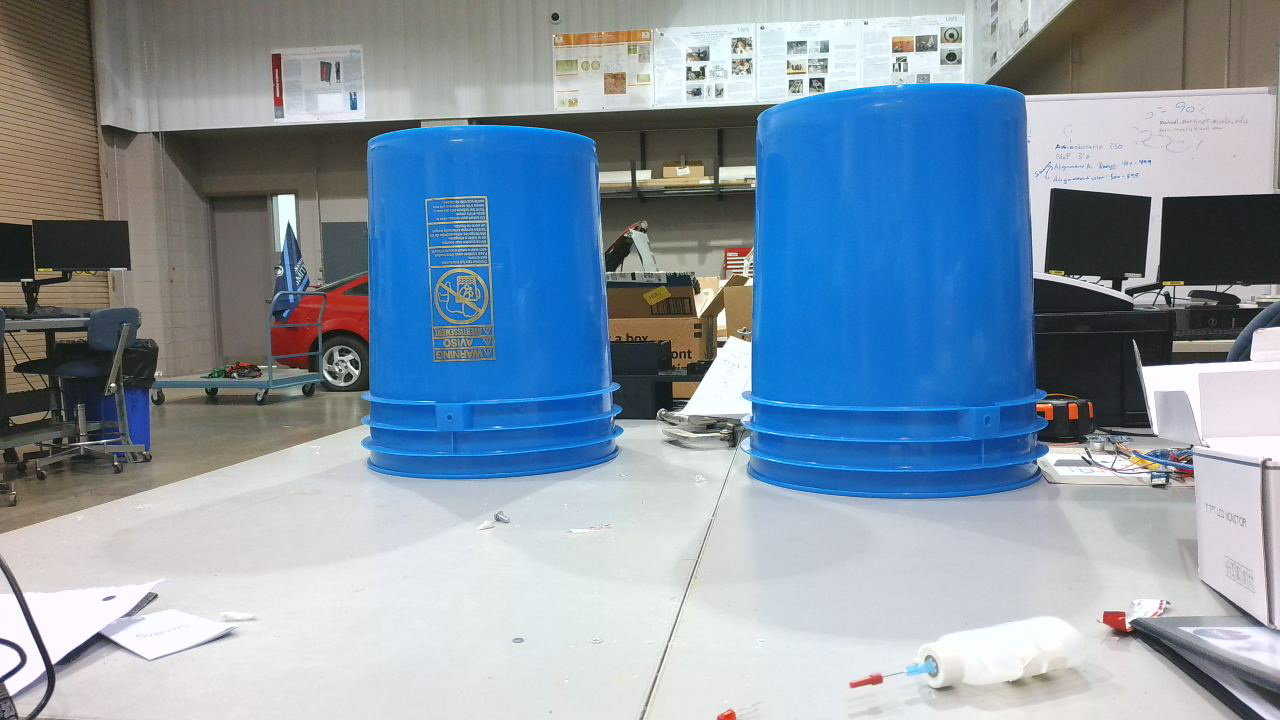blue_bucket: (744, 88, 1057, 509), (360, 126, 634, 491)
